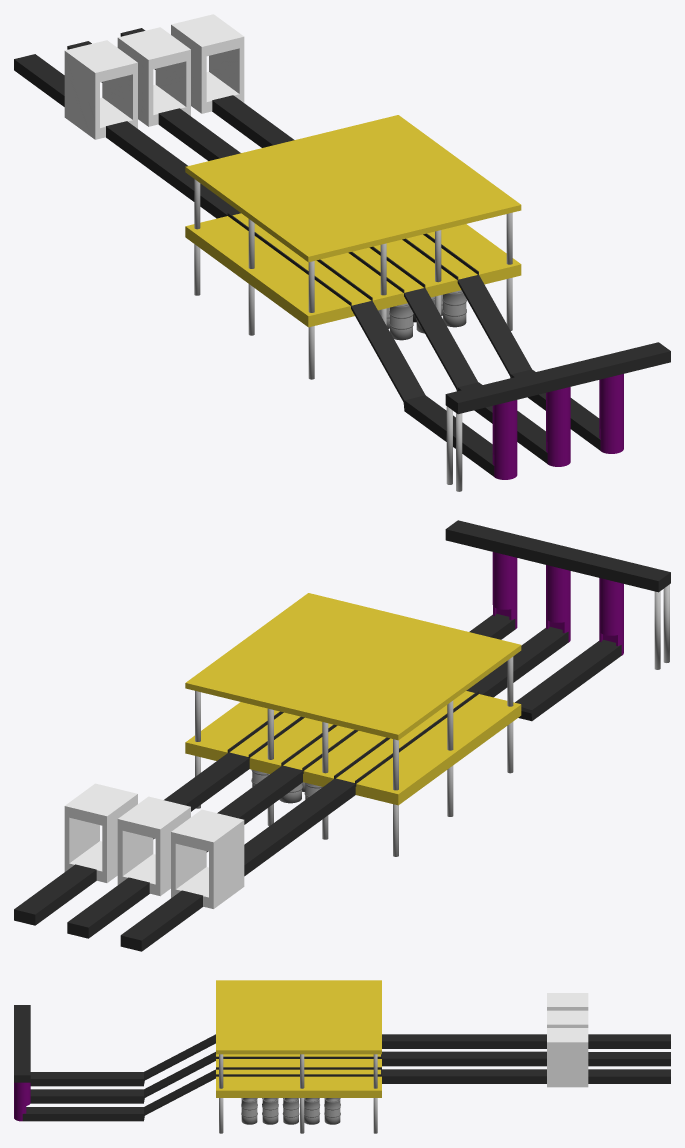
File: Spaceport3.fbx
3 views of the same model, one above another, from view 1: azimuth 30°, elevation 25°; view 2: azimuth 150°, elevation 25°; view 3: azimuth 270°, elevation 25° (orthographic). The views are drawn at different scales.
Parts seen in each view (by area): view 1: Ceiling, Floor, ExitStation3, IntakeBelt, ExitStation1, Conveyor3, ExitStation2, Conveyor1, Conveyor2, ExitBelt3, Dropper3, ExitBelt2 (+6 smaller); view 2: Ceiling, Floor, ExitStation3, IntakeBelt, ExitStation2, ExitStation1, ExitBelt3, Conveyor3, Conveyor2, ExitBelt1.003, ExitBelt1.002, ExitBelt1.001 (+6 smaller); view 3: Ceiling, Floor, ExitBelt2, Conveyor1, ExitStation1, ExitBelt1, ExitBelt3, Conveyor3, Conveyor2, IntakeBelt, ExitBelt1.001, ExitBelt1.002 (+12 smaller).
Boxes of the visible parts, bbox=[...] form: Ceiling: bbox=[185, 115, 521, 262]; Floor: bbox=[185, 213, 521, 327]; ExitStation3: bbox=[64, 40, 137, 139]; IntakeBelt: bbox=[445, 342, 670, 414]; ExitStation1: bbox=[171, 14, 244, 113]; Conveyor3: bbox=[351, 300, 494, 476]; ExitStation2: bbox=[117, 27, 190, 126]; Conveyor1: bbox=[457, 274, 600, 450]; Conveyor2: bbox=[404, 288, 547, 463]; ExitBelt3: bbox=[106, 121, 240, 218]; Dropper3: bbox=[492, 400, 517, 479]; ExitBelt2: bbox=[158, 108, 240, 160]; Ceiling: bbox=[185, 593, 521, 740]; Floor: bbox=[185, 691, 521, 805]; ExitStation3: bbox=[171, 809, 244, 908]; IntakeBelt: bbox=[445, 520, 670, 592]; ExitStation2: bbox=[117, 796, 190, 896]; ExitStation1: bbox=[64, 783, 137, 882]; ExitBelt3: bbox=[244, 778, 355, 876]; Conveyor3: bbox=[466, 640, 621, 721]; Conveyor2: bbox=[467, 627, 568, 697]; ExitBelt1.003: bbox=[120, 890, 202, 951]; ExitBelt1.002: bbox=[67, 877, 149, 938]; ExitBelt1.001: bbox=[14, 864, 96, 925]; Ceiling: bbox=[216, 980, 381, 1054]; Floor: bbox=[216, 1054, 381, 1097]; ExitBelt2: bbox=[381, 1051, 546, 1066]; Conveyor1: bbox=[22, 1069, 215, 1121]; ExitStation1: bbox=[547, 1028, 588, 1087]; ExitBelt1: bbox=[381, 1069, 546, 1083]; ExitBelt3: bbox=[382, 1034, 546, 1048]; Conveyor3: bbox=[30, 1034, 215, 1086]; Conveyor2: bbox=[30, 1052, 215, 1103]; IntakeBelt: bbox=[14, 1005, 30, 1082]; ExitBelt1.001: bbox=[588, 1069, 670, 1083]; ExitBelt1.002: bbox=[588, 1052, 670, 1066].
Size of the model in its own units: 4000 by 2261 by 15825.
